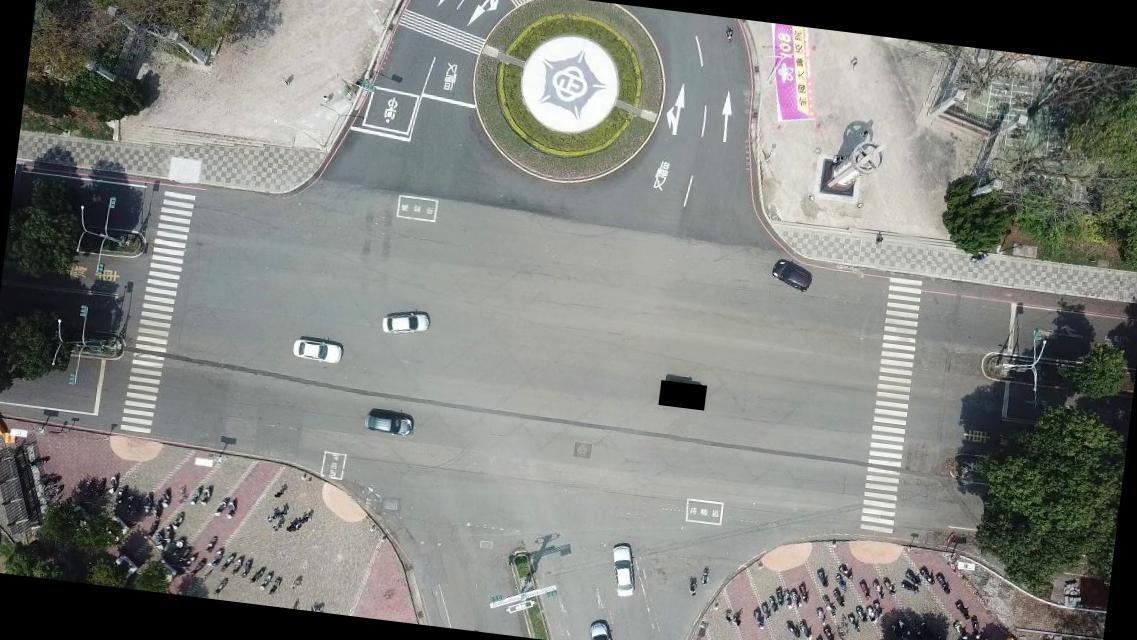vehicle: (604, 541, 639, 600), (287, 334, 343, 366), (377, 307, 431, 340), (769, 256, 814, 292), (359, 408, 413, 437), (584, 617, 617, 639)
